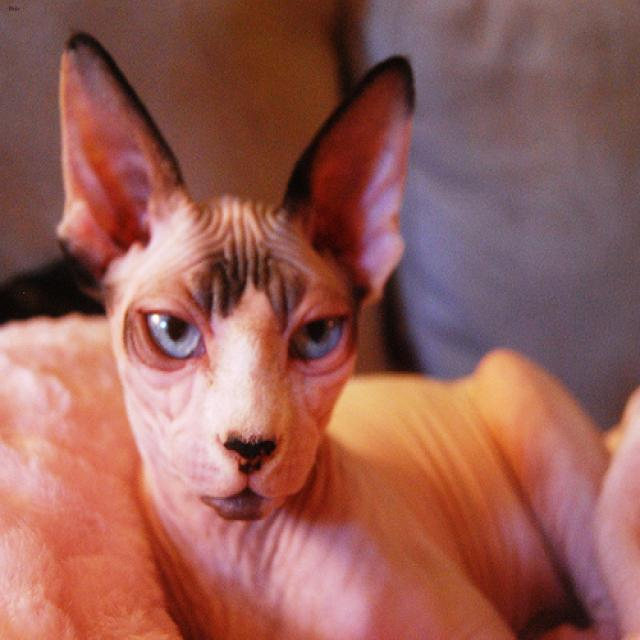Sphynx: (57, 22, 420, 530)
